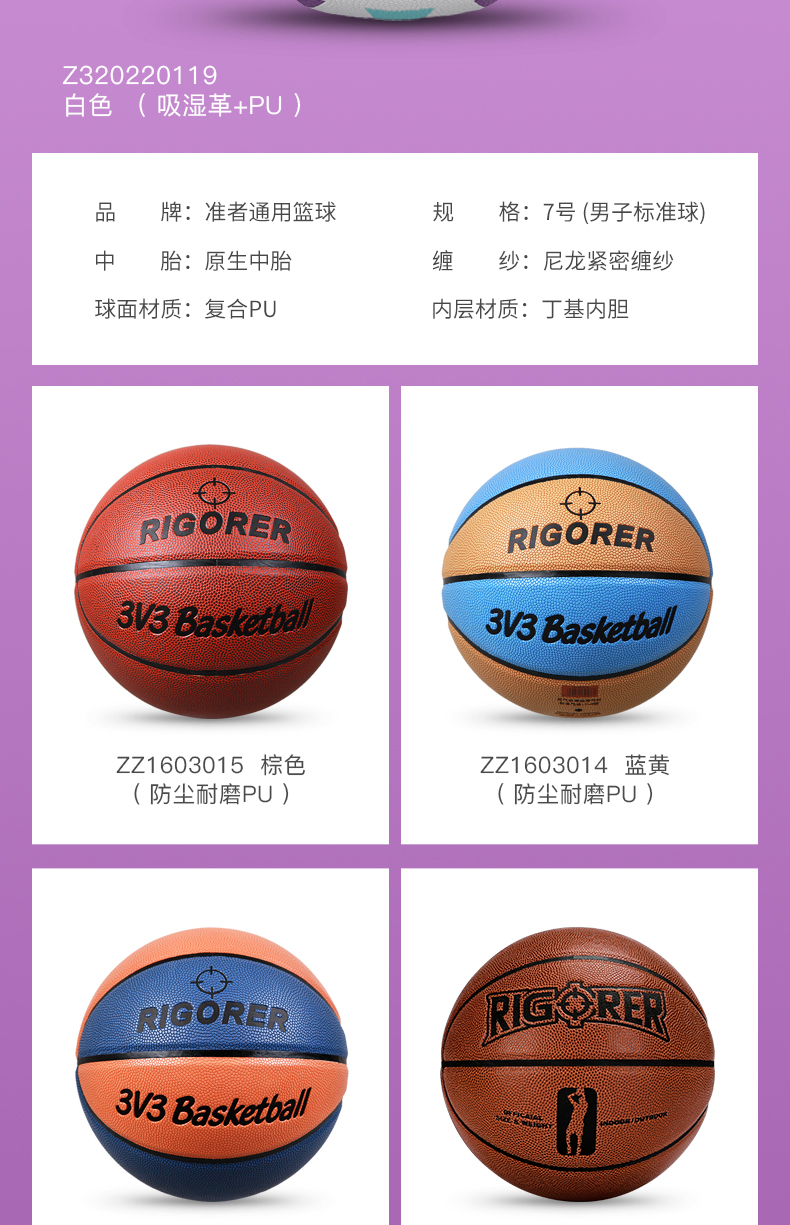ball: (437, 925, 720, 1206), (74, 925, 350, 1206), (73, 443, 350, 722), (440, 445, 719, 722)
